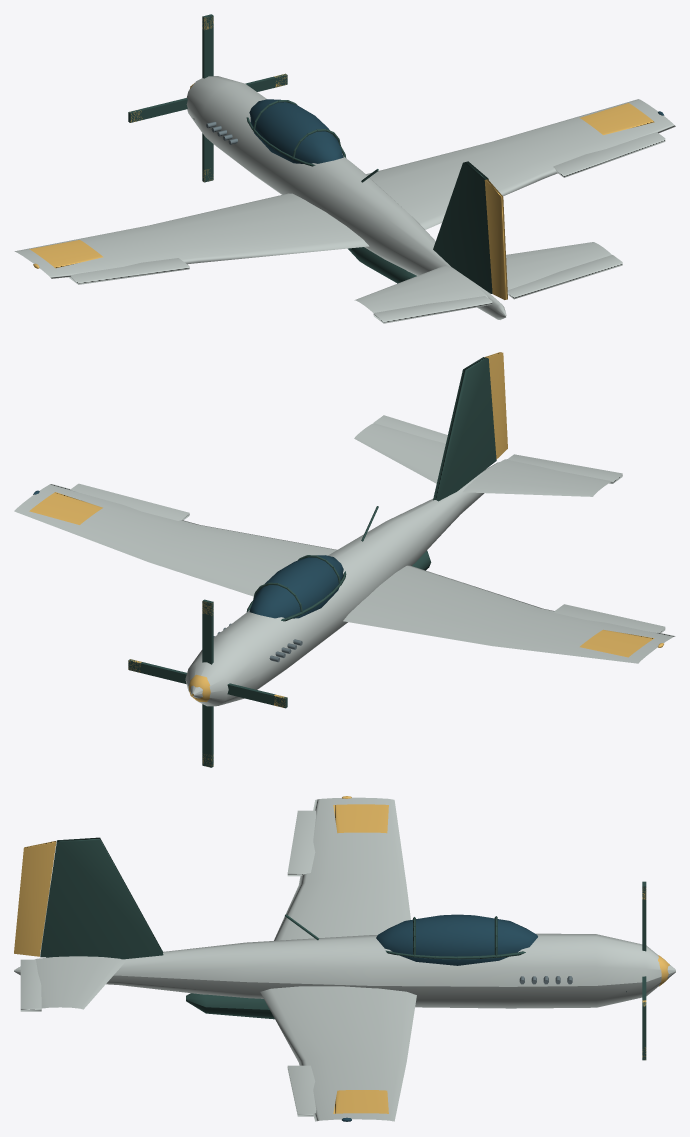
Rendered from player-mustang-mobile-v1.glb.
The picture shows the model from 3 angles, top to bottom: view 1: azimuth 30°, elevation 25°; view 2: azimuth 150°, elevation 25°; view 3: azimuth 270°, elevation 25°; orthographic projection. The views are drawn at different scales.
Parts seen in each view (by area): view 1: hull, trim, glass, accent, propeller, rudder, aileron-right, elevator-right, aileron-left, elevator-left; view 2: hull, trim, glass, accent, propeller, rudder, aileron-right, aileron-left, elevator-left, elevator-right; view 3: hull, trim, glass, rudder, accent, aileron-left, aileron-right, elevator-right, propeller.
Boxes of the visible parts, x1,y1,x2,y2 form: hull: (14,76,675,319); trim: (246,100,492,293); glass: (249,99,664,163); accent: (29,83,654,268); propeller: (128,14,287,182); rudder: (484,179,507,299); aileron-right: (553,132,665,177); elevator-right: (507,255,622,299); aileron-left: (68,258,189,284); elevator-left: (373,296,492,323); hull: (14,423,675,706); trim: (246,357,496,621); glass: (33,490,343,618); accent: (29,492,663,702); propeller: (128,599,287,767); rudder: (485,352,507,459); aileron-right: (70,483,189,520); aileron-left: (553,604,665,632); elevator-left: (507,454,622,483); elevator-right: (373,415,447,443); hull: (14,797,675,1121); trim: (40,837,525,1019); glass: (342,914,537,1121); rudder: (14,841,56,956); accent: (333,796,669,1113); aileron-left: (287,810,315,876); aileron-right: (287,1065,316,1116); elevator-right: (20,959,41,1011); propeller: (642,881,646,1060).
Size of the model in its own units: 11.58 by 3.65 by 10.
